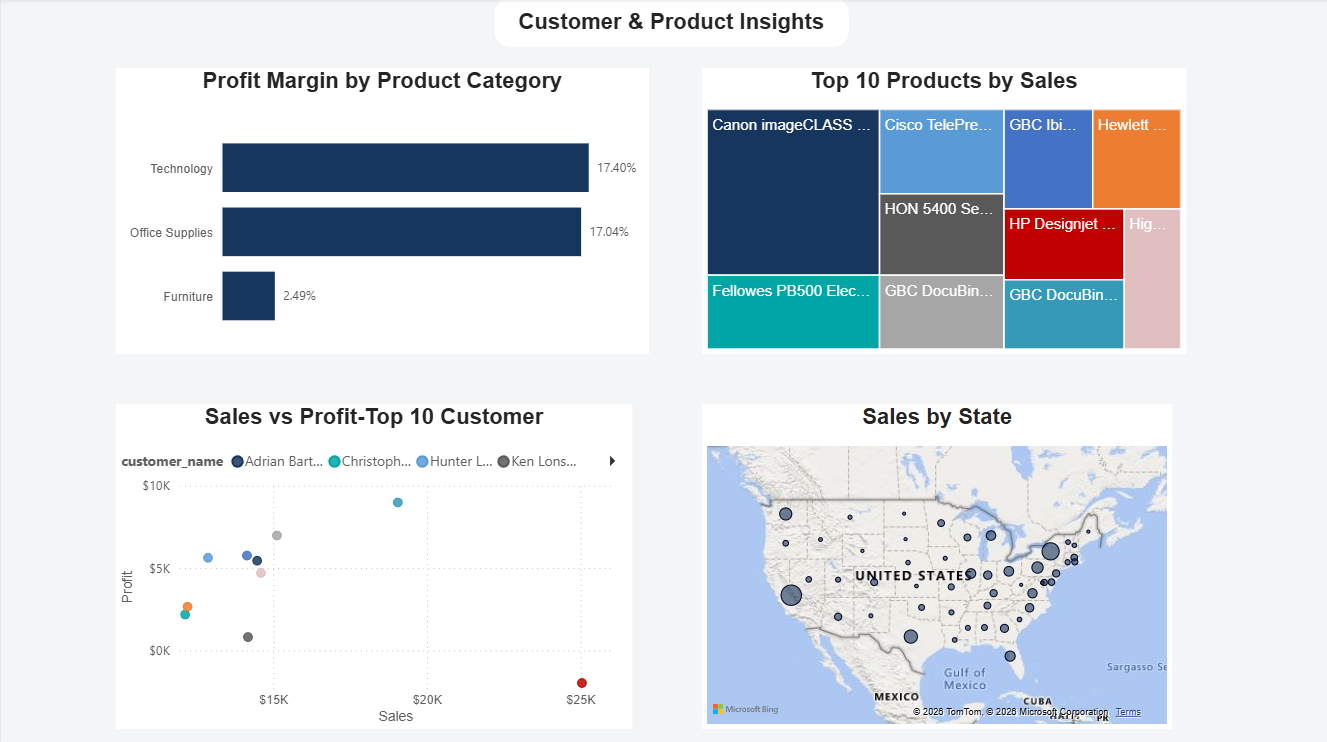

What the dashboard file says about the page in this screenshot:
{"tool":"powerbi","page":{"name":"Customer & Product insights","canvas":[1280,720],"ordinal":3},"visuals":[{"type":"clusteredBarChart","title":"Profit Margin by Product Category","fields":{"Category":["Copy of Retail Sales Data - orders_cleaned.product_category"],"Y":["_measures.Profit margin"]},"box":[111.1,67.8,514.4,275.9],"z":0},{"type":"treemap","title":"Top 10 Products by Sales","fields":{"Values":["Sum(Copy of Retail Sales Data - orders_cleaned.sales)"],"Group":["Copy of Retail Sales Data - orders_cleaned.product_name"]},"box":[676.7,67.8,466.9,276.3],"z":1000},{"type":"textbox","box":[476.5,0,341.4,47.1],"z":5000},{"type":"scatterChart","title":"Sales vs Profit-Top 10 Customer","fields":{"X":["Sum(Copy of Retail Sales Data - orders_cleaned.sales)"],"Y":["Sum(Copy of Retail Sales Data - orders_cleaned.profit)"],"Series":["Copy of Retail Sales Data - orders_cleaned.customer_name"]},"box":[111,392.1,498.3,313.7],"z":6000},{"type":"map","title":"Sales by State","fields":{"Category":["Copy of Retail Sales Data - orders_cleaned.state"],"Size":["Sum(Copy of Retail Sales Data - orders_cleaned.sales)"]},"box":[676.8,392.1,453.6,313.7],"z":7000}]}

Visuals, with their boxes in screenshot pixels (x1, y1, x2, y2), scaled from the page's 1280x720 canvas onto the 1327x742 screenshot:
"Profit Margin by Product Category" clusteredBarChart: (115,70,648,354)
"Top 10 Products by Sales" treemap: (702,70,1186,355)
textbox: (494,0,848,49)
"Sales vs Profit-Top 10 Customer" scatterChart: (115,404,632,727)
"Sales by State" map: (702,404,1172,727)
